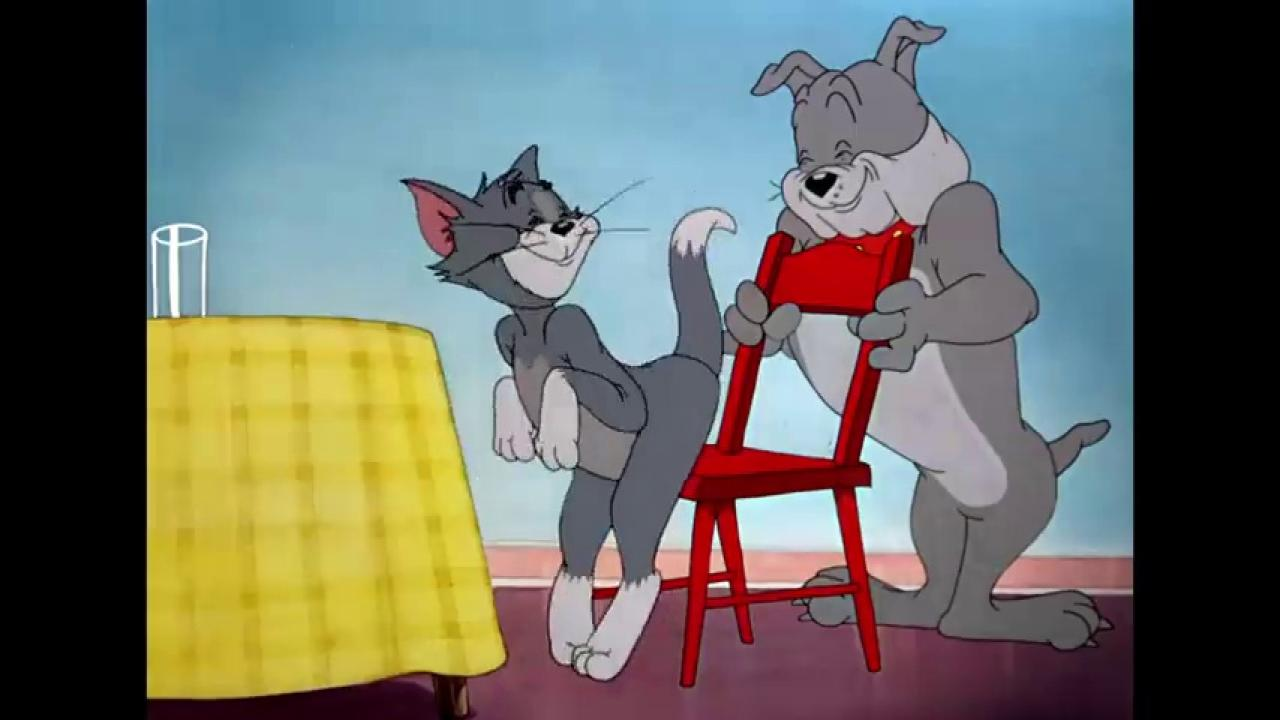Tom: (397, 141, 740, 683)
